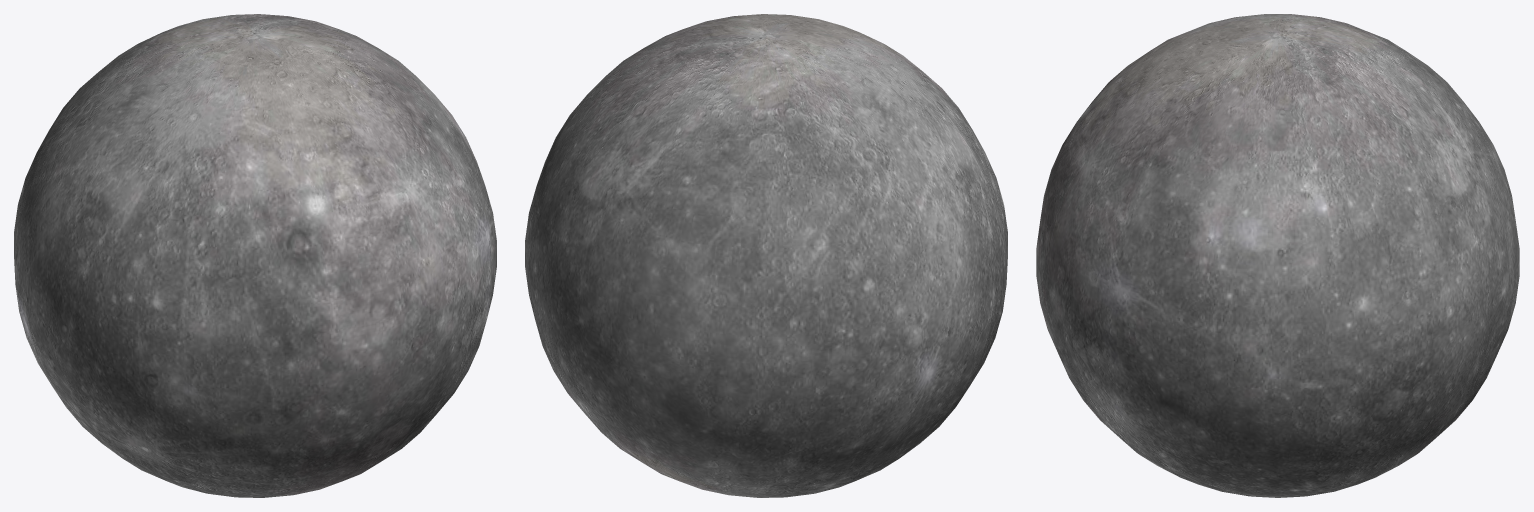
File: mercury.obj
3 renders of one model, left to right at view 1: azimuth 30°, elevation 25°; view 2: azimuth 150°, elevation 25°; view 3: azimuth 270°, elevation 25°, orthographic.
Parts seen in each view (by area): view 1: mercury; view 2: mercury; view 3: mercury.
Boxes of the visible parts, x1,y1,x2,y2 form: mercury: (14,14,496,497); mercury: (525,14,1007,497); mercury: (1036,14,1519,497).
Bounding box in the file's own units: 38.71 × 38.94 × 38.78.
Materials: 1 (1 with a texture image).
